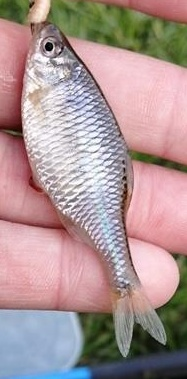Rhodeus amarus: (20, 20, 167, 359)
